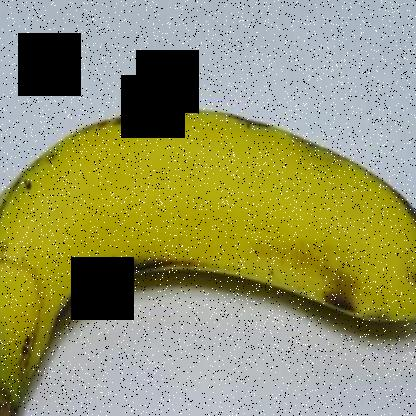freshripe: (1, 91, 415, 415)
